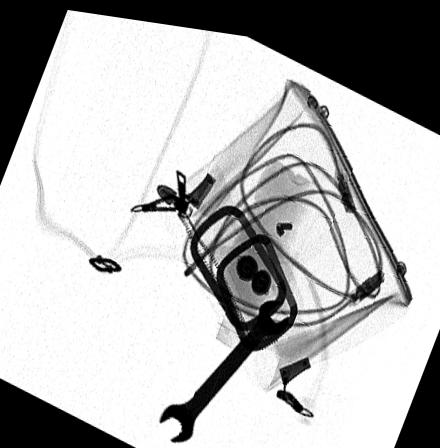Wrench: (158, 288, 290, 438)
